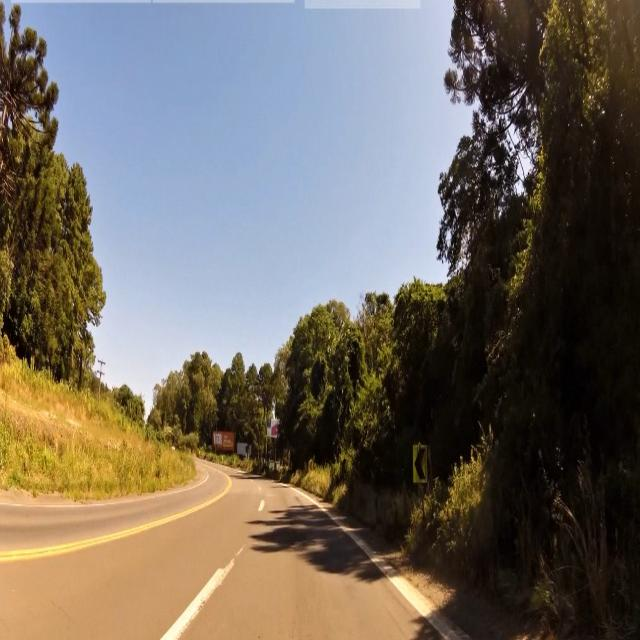Del: (414, 443, 425, 483)
